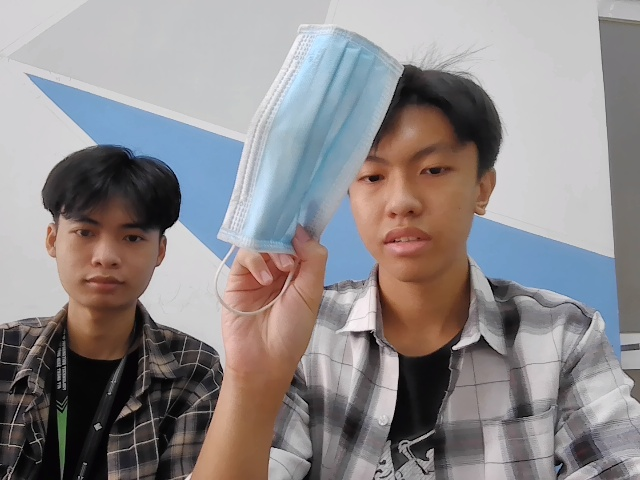human: (36, 138, 184, 309)
mask: (216, 26, 408, 243)
